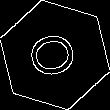O_E: (25, 28, 85, 82)
